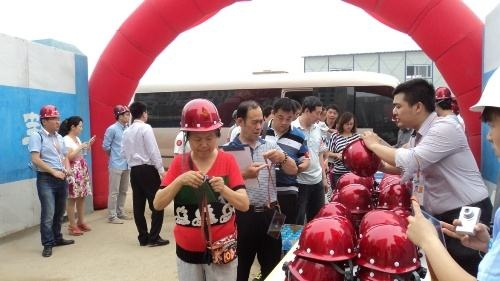none: (389, 76, 436, 130), (235, 99, 266, 140), (270, 95, 295, 131), (299, 96, 322, 124), (130, 99, 150, 124), (64, 115, 84, 138), (338, 112, 356, 134), (324, 103, 338, 122)
red: (178, 97, 224, 157), (37, 104, 62, 134), (434, 86, 454, 115), (113, 102, 131, 125)
